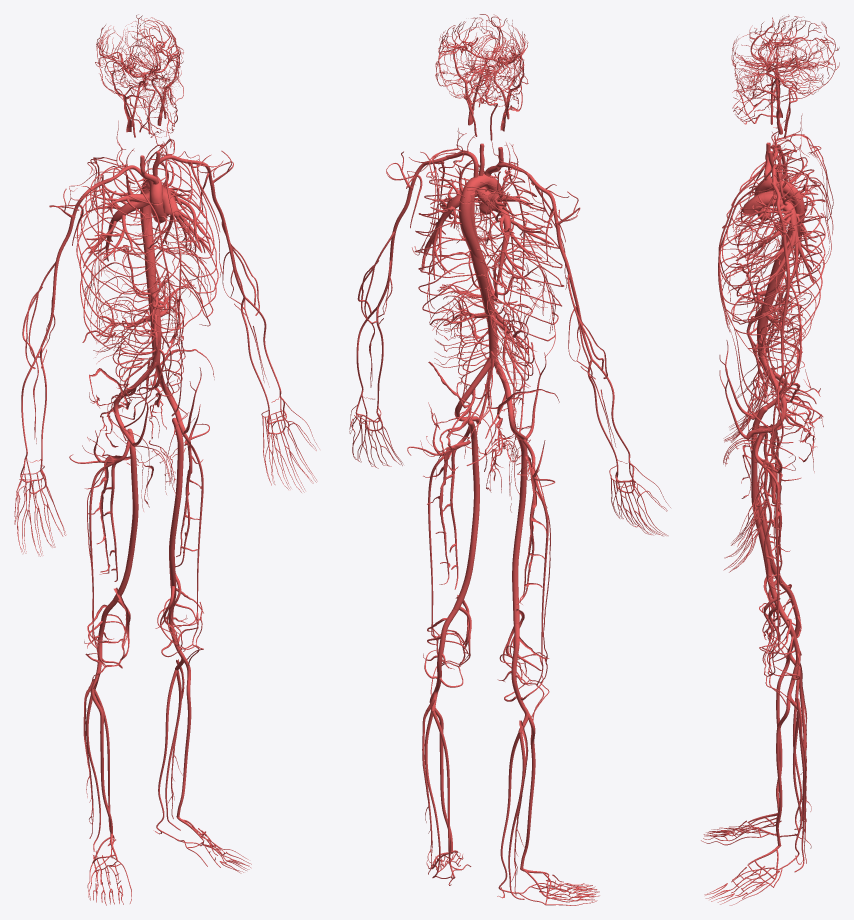
Rendered from arterie.glb.
The picture shows the model from 3 angles, left to right: view 1: azimuth 30°, elevation 25°; view 2: azimuth 150°, elevation 25°; view 3: azimuth 270°, elevation 25°; orthographic projection. The views are drawn at different scales.
Parts seen in each view (by area): view 1: FJ1961, FJ1975, FJ2074, FJ2143, FJ3427, FJ2065; view 2: FJ1961, FJ1975, FJ2074, FJ2143, FJ3427; view 3: FJ1975, FJ1961, FJ2074, FJ2143, FJ2065, FJ1932, FJ2219, FJ2130, FJ3427, FJ2086, FJ2063, FJ2094 (+11 smaller).
Part boxes in pixels (x1,y1,x2,y2): FJ1961: (76, 168, 166, 348); FJ1975: (140, 159, 218, 324); FJ2074: (169, 417, 183, 587); FJ2143: (113, 428, 138, 602); FJ3427: (140, 186, 158, 366); FJ2065: (177, 657, 191, 817); FJ1961: (467, 188, 564, 351); FJ1975: (414, 179, 502, 326); FJ2074: (453, 420, 479, 610); FJ2143: (512, 433, 527, 624); FJ3427: (459, 201, 497, 359); FJ1975: (719, 179, 825, 352); FJ1961: (721, 157, 825, 304); FJ2074: (751, 433, 782, 609); FJ2143: (751, 406, 782, 583); FJ2065: (776, 695, 790, 845); FJ1932: (757, 272, 783, 359); FJ2219: (781, 231, 789, 371); FJ2130: (776, 655, 790, 812); FJ3427: (758, 199, 804, 358); FJ2086: (779, 608, 800, 710); FJ2063: (764, 466, 779, 651); FJ2094: (754, 435, 780, 590).
Size of the model in its own units: 0.6489 by 1.7 by 0.2528.
